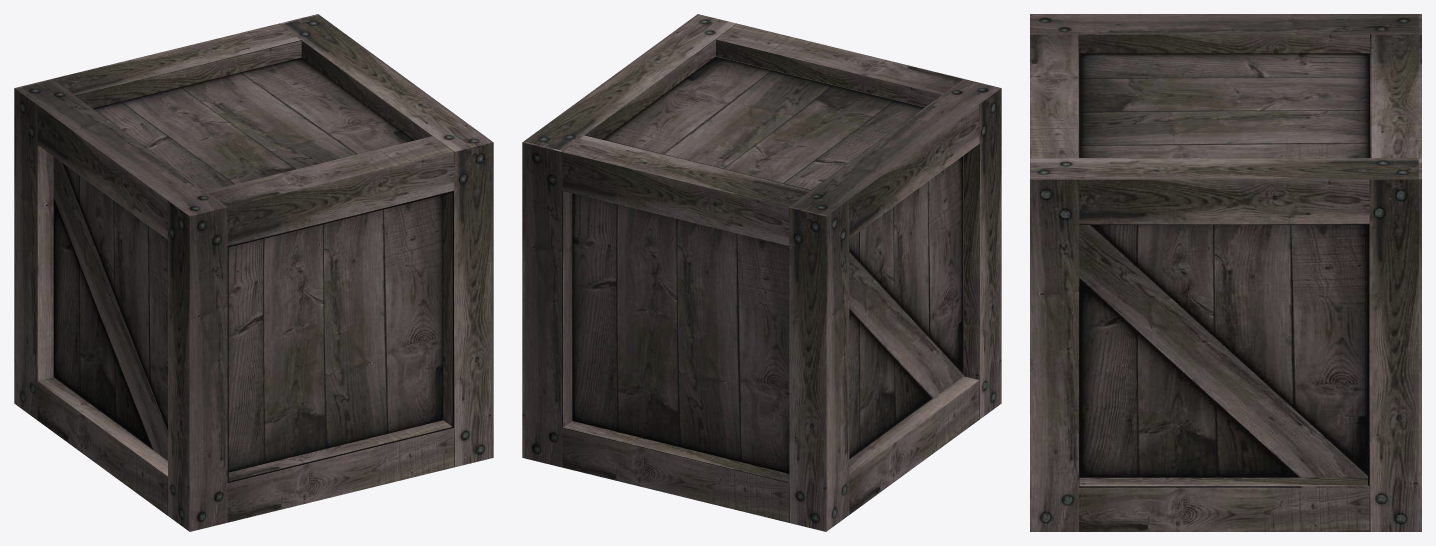
The model's file is Kostka.dae.
The picture shows the model from 3 angles, left to right: view 1: azimuth 30°, elevation 25°; view 2: azimuth 150°, elevation 25°; view 3: azimuth 270°, elevation 25°; orthographic projection. The views are drawn at different scales.
Visible parts, largest first — view 1: Model; view 2: Model; view 3: Model.
Part boxes in pixels (<box>): Model: <box>14,14,493,531</box>; Model: <box>522,14,1001,531</box>; Model: <box>1030,14,1421,531</box>.
Bounding box in the file's own units: 133 × 133 × 132.
2 materials, 2 textured.
